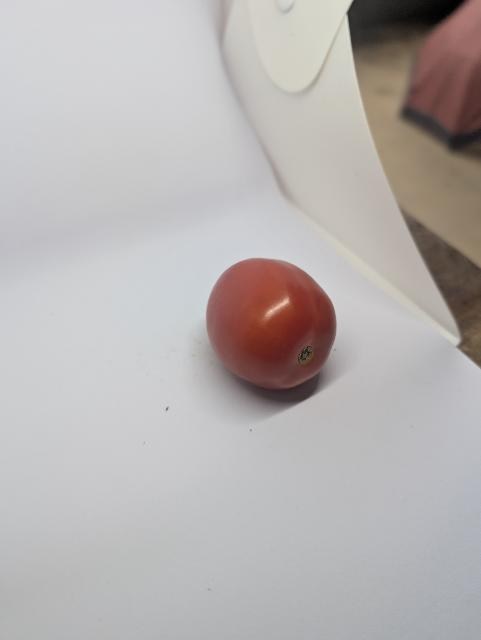red: (201, 248, 349, 416)
